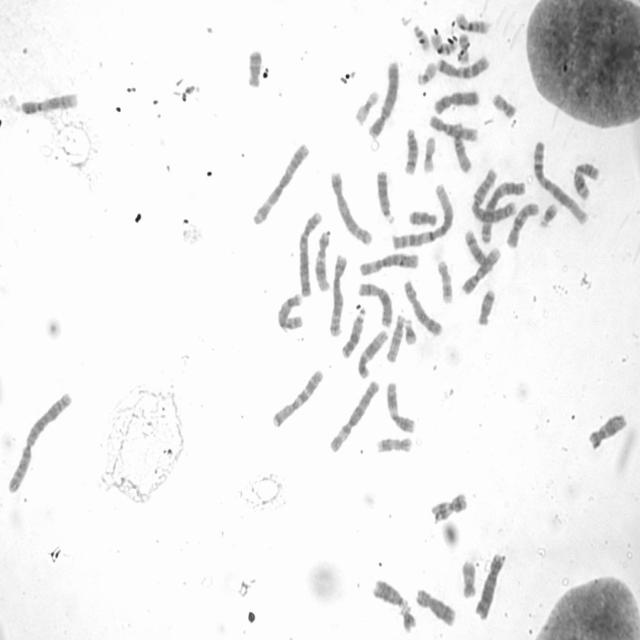A1: (531, 137, 590, 226), (390, 180, 455, 250)
A2: (4, 387, 74, 495), (469, 166, 518, 223)
A3: (250, 138, 311, 226), (478, 177, 526, 244)
B4: (366, 56, 401, 139), (296, 206, 324, 298)
B5: (328, 166, 375, 246), (327, 251, 349, 338)
C10: (504, 198, 540, 250), (426, 111, 479, 143)
C11: (384, 378, 417, 434), (571, 157, 602, 201)
C12: (356, 326, 389, 379), (312, 227, 332, 293)
C6: (327, 376, 381, 454), (356, 249, 419, 277)
C7: (269, 364, 324, 430), (434, 51, 492, 80)
C8: (401, 276, 445, 337), (413, 583, 457, 628)
C9: (459, 243, 502, 296), (18, 88, 80, 116)
D13: (370, 575, 409, 610), (374, 165, 396, 225)
D14: (462, 226, 491, 270), (401, 123, 420, 175)
D15: (450, 117, 473, 174), (384, 310, 406, 364)
E16: (453, 8, 492, 34), (428, 30, 457, 56)
E17: (435, 256, 455, 304), (459, 556, 478, 600)
E18: (475, 285, 497, 327), (245, 44, 264, 90)
F19: (352, 86, 381, 126), (420, 132, 438, 174)
F20: (489, 89, 518, 119), (455, 29, 472, 65)
G21: (537, 199, 559, 229), (402, 314, 418, 346)
G22: (414, 57, 438, 86), (411, 20, 432, 52)
X: (356, 278, 394, 328), (431, 86, 482, 115)
